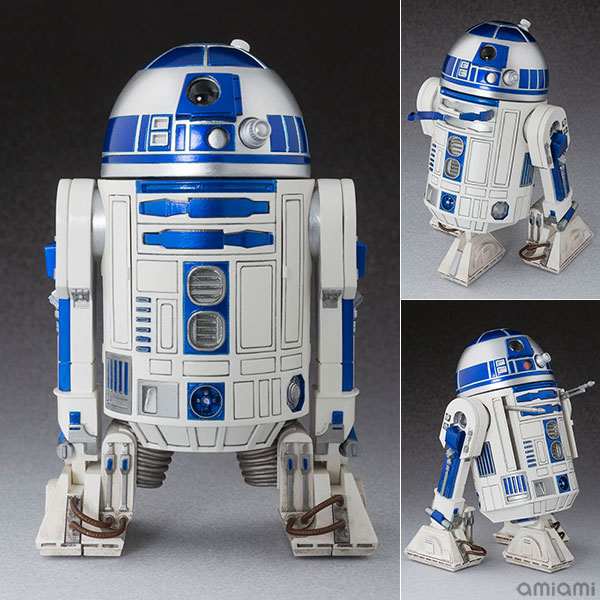r2d2: (32, 38, 379, 560), (416, 19, 594, 288), (404, 327, 578, 574)
